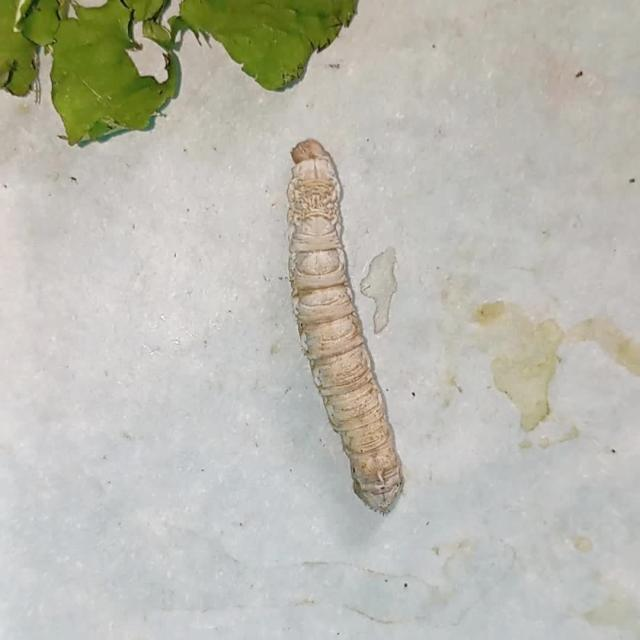Grasserie: (211, 113, 448, 536)
